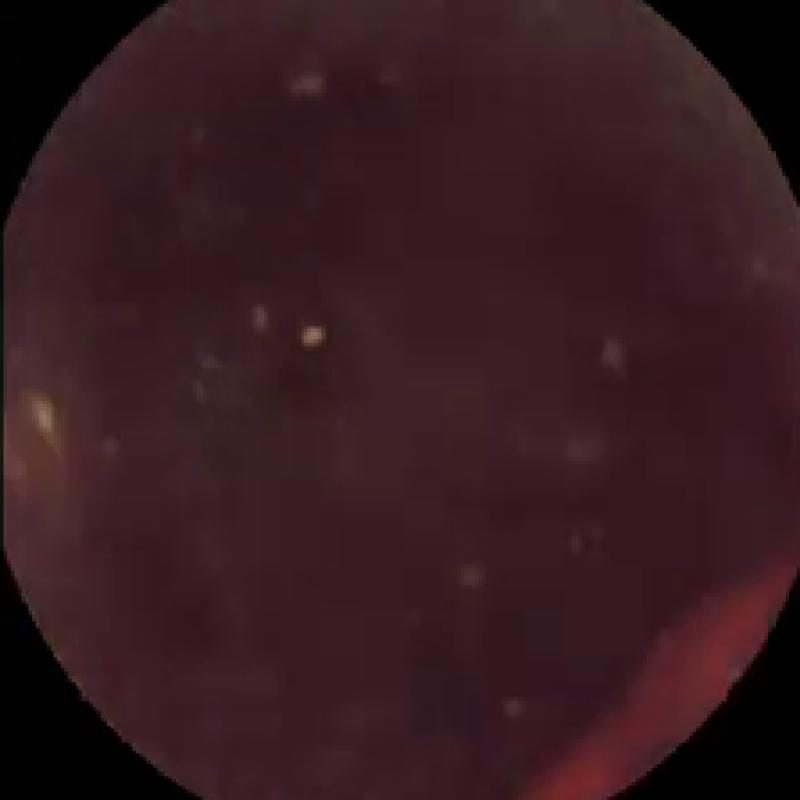bleeding: (539, 572, 793, 796)
